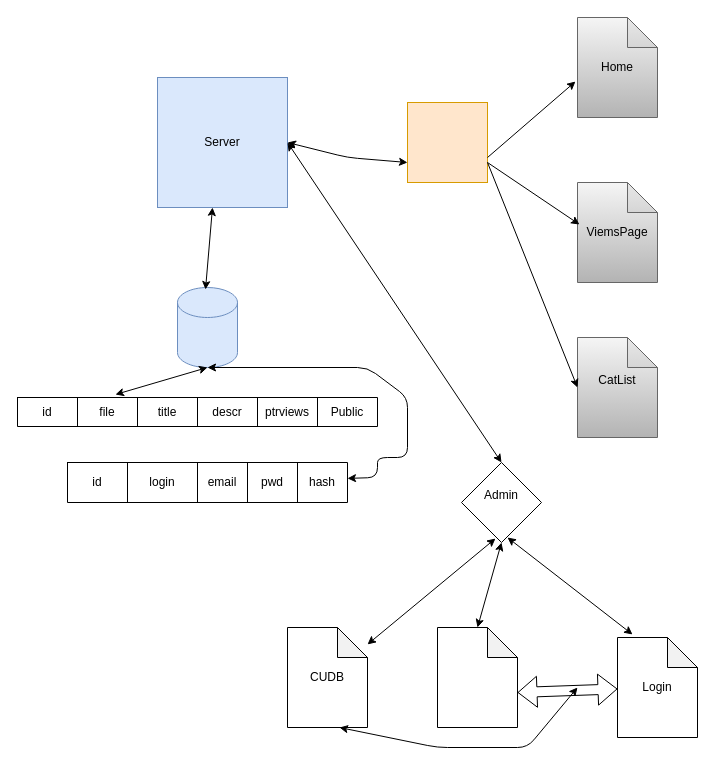
The diagram is 715 pixels wide and 774 high, and some of its shapes have lost their labels. The shapes that lost their labels are listed below. From the top down, each one's centre as x and y in pixels, then its label:
(x=447, y=142): Front
(x=207, y=327): Mysql
(x=477, y=677): Statics
